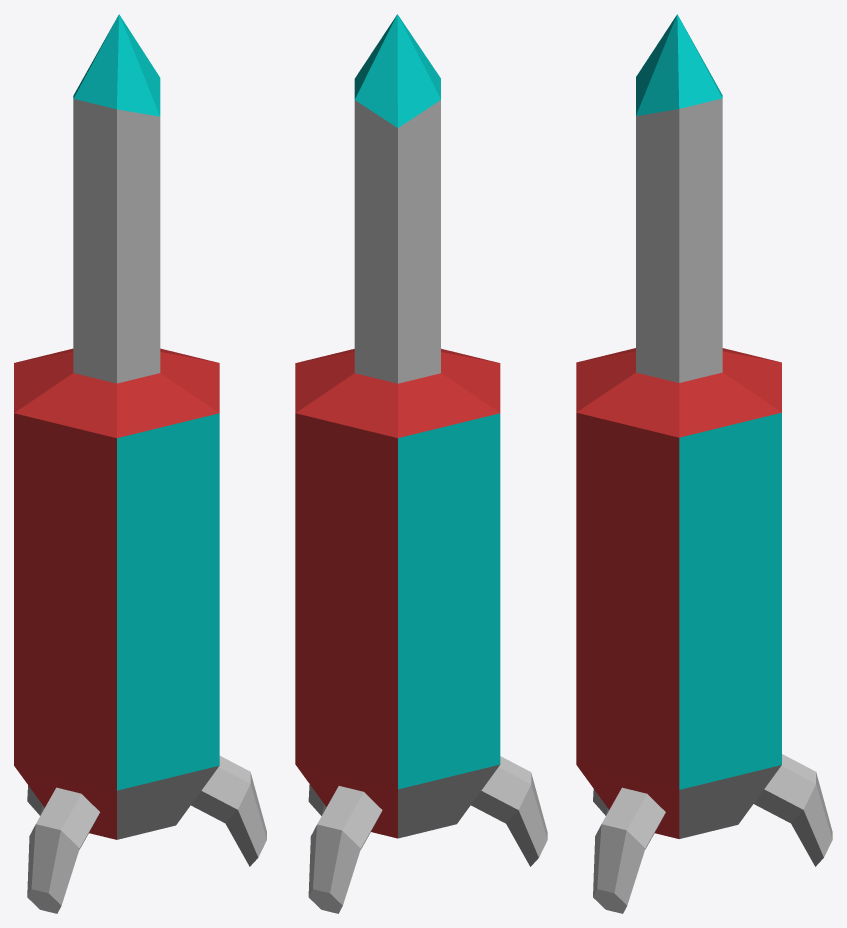
File: Drone.fbx
3 views of the same model, side by side, from view 1: azimuth 30°, elevation 25°; view 2: azimuth 150°, elevation 25°; view 3: azimuth 270°, elevation 25° (orthographic).
Visible parts, largest first — view 1: pCylinder1, pCylinder4, pCylinder2; view 2: pCylinder1, pCylinder3, pCylinder4; view 3: pCylinder1, pCylinder2, pCylinder3.
Part boxes in pixels (<box>): pCylinder1: <box>14,14,219,839</box>; pCylinder4: <box>27,787,99,913</box>; pCylinder2: <box>191,756,266,866</box>; pCylinder1: <box>295,14,500,838</box>; pCylinder3: <box>308,786,382,913</box>; pCylinder4: <box>471,756,547,866</box>; pCylinder1: <box>576,14,781,838</box>; pCylinder2: <box>593,787,665,913</box>; pCylinder3: <box>754,754,832,866</box>.
Bounding box in the file's own units: 2.29 × 7.9 × 2.16.
